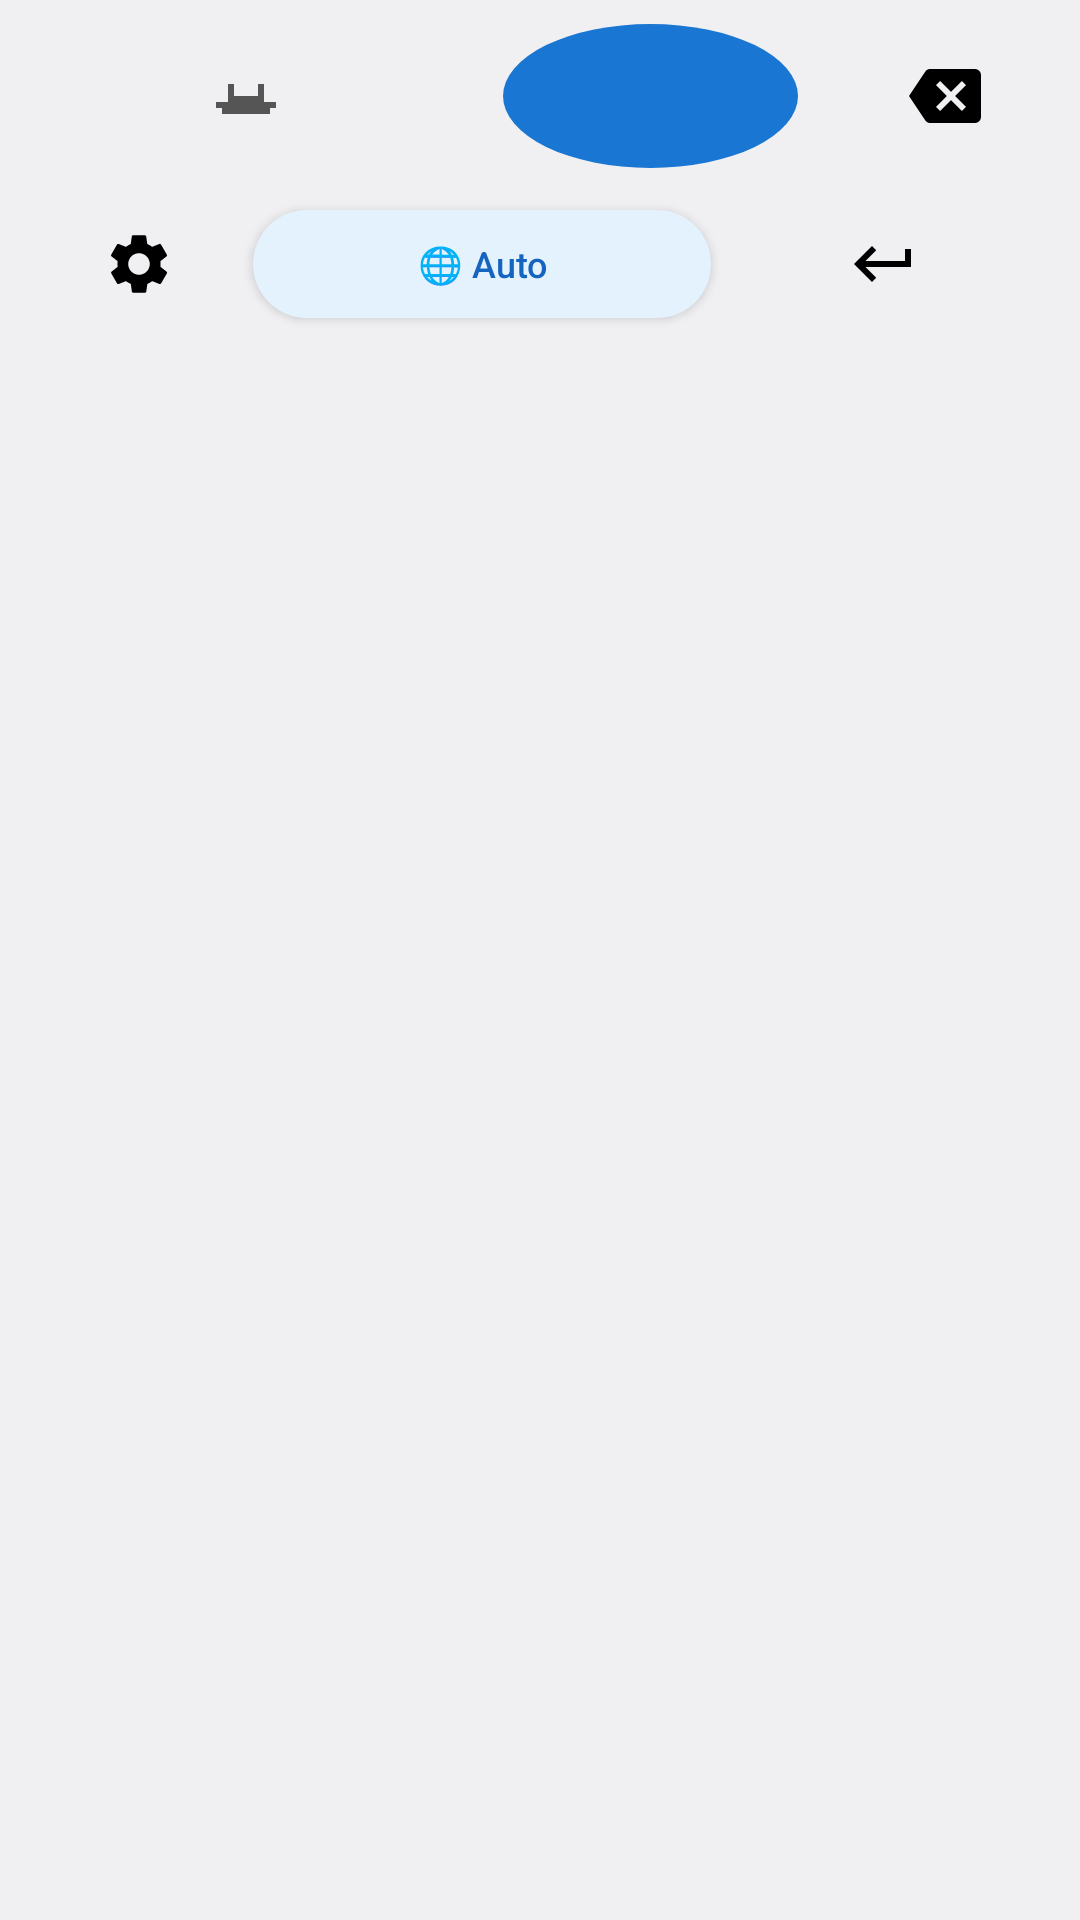

Point at icon controls on the screen. Image size 1080px x 1920px, points as (x,y).
Ajustes: (139,264)
Borrar: (945,96)
Enter: (882,264)
Espacio: (246,99)
